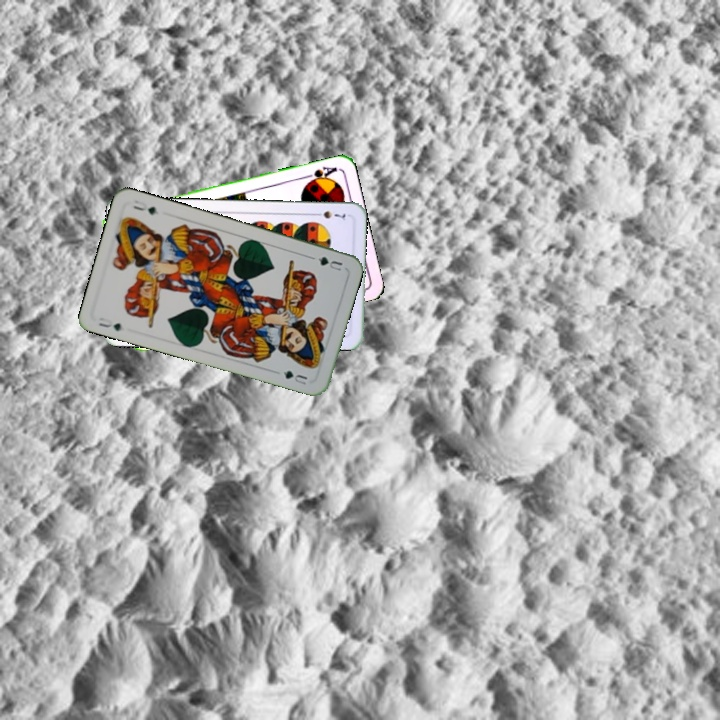GU: (308, 252, 345, 273), (94, 313, 124, 334)
S7: (310, 207, 347, 223)
SA: (300, 162, 340, 186)
